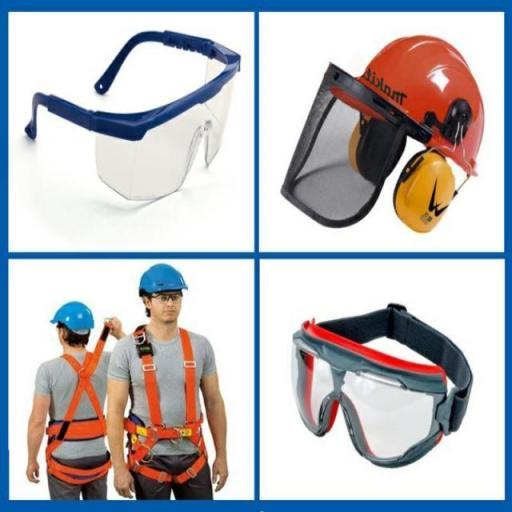helmet: (135, 260, 191, 300), (50, 298, 95, 336)
vest: (124, 327, 212, 479), (45, 354, 111, 480)
